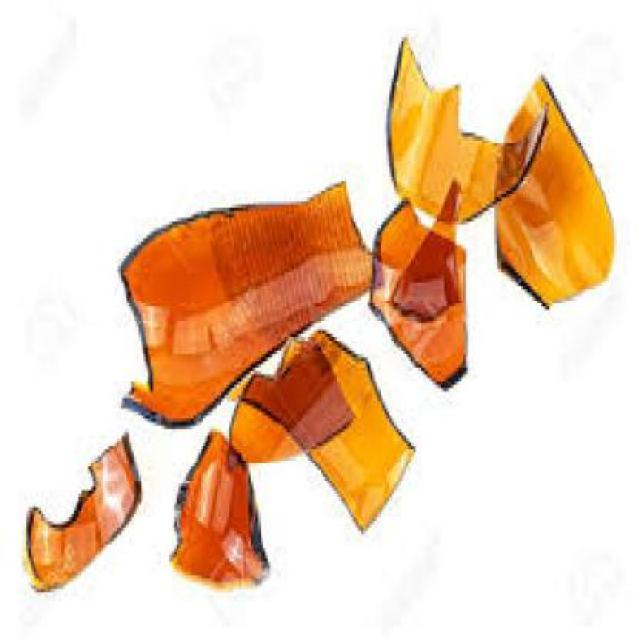kaca: (115, 177, 377, 426), (229, 328, 408, 532), (383, 30, 548, 222), (494, 68, 614, 303), (366, 194, 468, 388), (22, 430, 138, 592), (220, 334, 351, 463), (168, 426, 269, 589), (388, 177, 462, 317)
